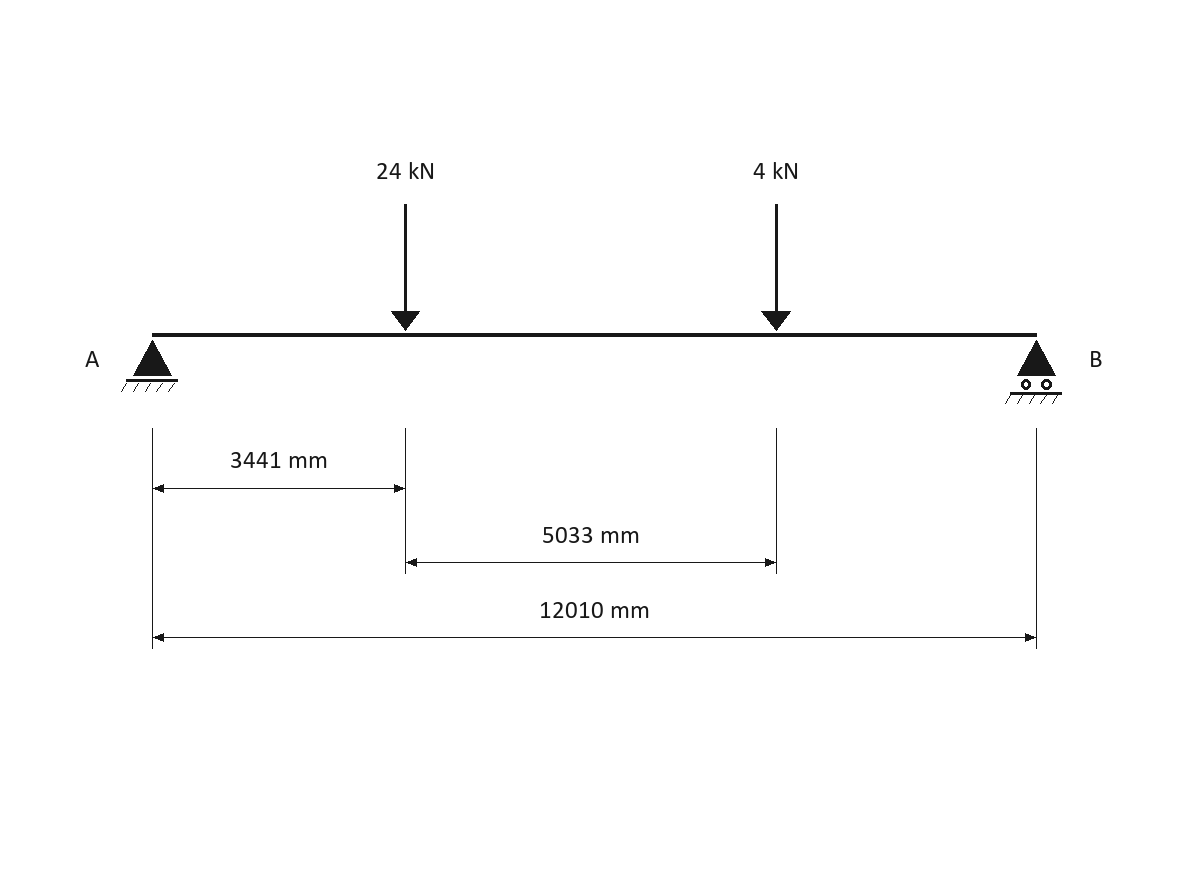pin_support: (121, 340, 178, 392)
point_load: (761, 204, 791, 331), (391, 204, 420, 331)
roller_support: (1005, 340, 1062, 404)
